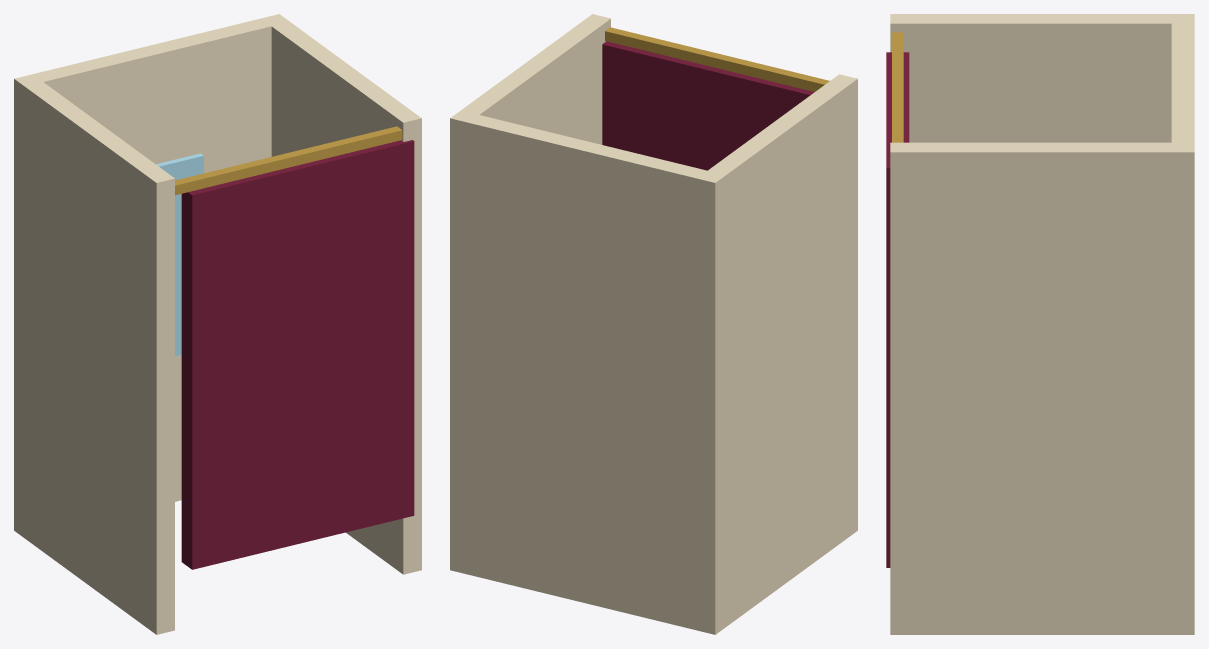
File: FittingRoom.fbx
3 views of the same model, side by side, from view 1: azimuth 30°, elevation 25°; view 2: azimuth 150°, elevation 25°; view 3: azimuth 270°, elevation 25° (orthographic). The views are drawn at different scales.
Parts seen in each view (by area): view 1: FittingRoom; view 2: FittingRoom; view 3: FittingRoom.
Part boxes in pixels (x1=…): FittingRoom: x1=14, y1=14, x2=421, y2=634; FittingRoom: x1=450, y1=14, x2=857, y2=634; FittingRoom: x1=886, y1=14, x2=1194, y2=634.
Bounding box in the file's own units: 4.3 × 7 × 4.05.
1 material, 1 textured.
